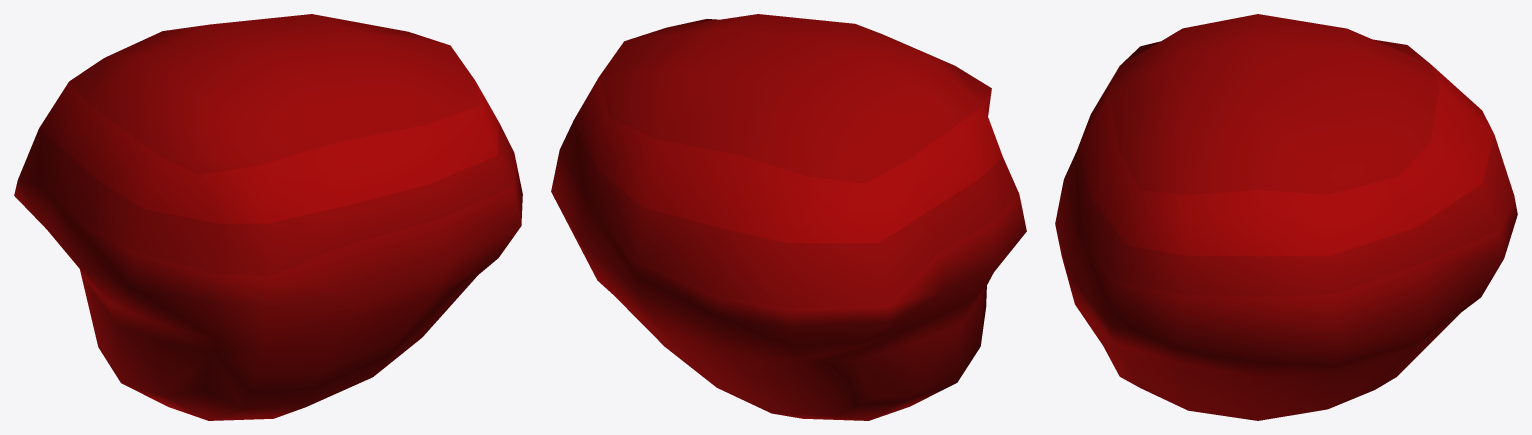
Rendered from geology-pebbles-sandstonepebble_v6.fbx.
3 views of the same model, side by side, from view 1: azimuth 30°, elevation 25°; view 2: azimuth 150°, elevation 25°; view 3: azimuth 270°, elevation 25° (orthographic). The views are drawn at different scales.
Parts seen in each view (by area): view 1: SandstonePebble_v6; view 2: SandstonePebble_v6; view 3: SandstonePebble_v6.
Boxes of the visible parts, bbox=[...] form: SandstonePebble_v6: bbox=[14, 14, 522, 420]; SandstonePebble_v6: bbox=[551, 14, 1026, 420]; SandstonePebble_v6: bbox=[1055, 14, 1517, 420].
Size of the model in its own units: 11.58 by 9.35 by 10.67.
